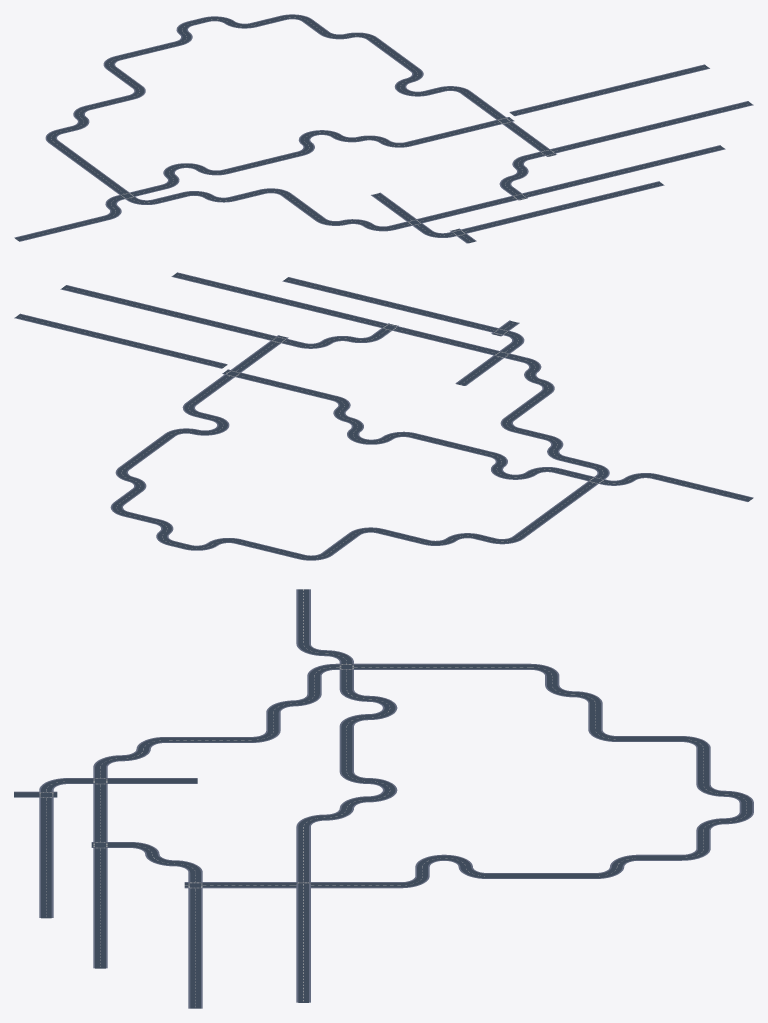
File: track-jesan.fbx
3 views of the same model, one above another, from view 1: azimuth 30°, elevation 25°; view 2: azimuth 150°, elevation 25°; view 3: azimuth 270°, elevation 25° (orthographic). The views are drawn at different scales.
Bounding box in the file's own units: 45900 × 314 × 34233.
